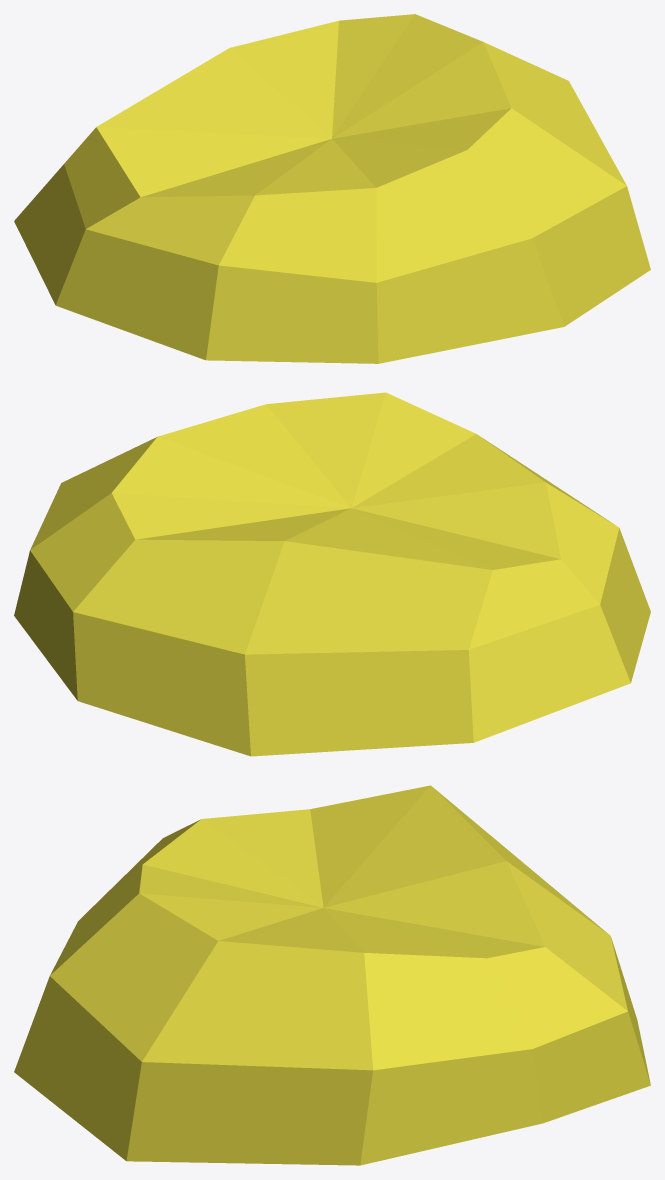
The model's file is Beanbag_Yellow.fbx.
3 renders of one model, top to bottom at view 1: azimuth 30°, elevation 25°; view 2: azimuth 150°, elevation 25°; view 3: azimuth 270°, elevation 25°, orthographic. The views are drawn at different scales.
Visible parts, largest first — view 1: Beanbag3; view 2: Beanbag3; view 3: Beanbag3.
Part boxes in pixels (x1,y1,x2,y2): Beanbag3: (14,14,650,363); Beanbag3: (14,392,650,756); Beanbag3: (14,785,650,1165).
Size of the model in its own units: 99.59 by 32.2 by 91.7.
